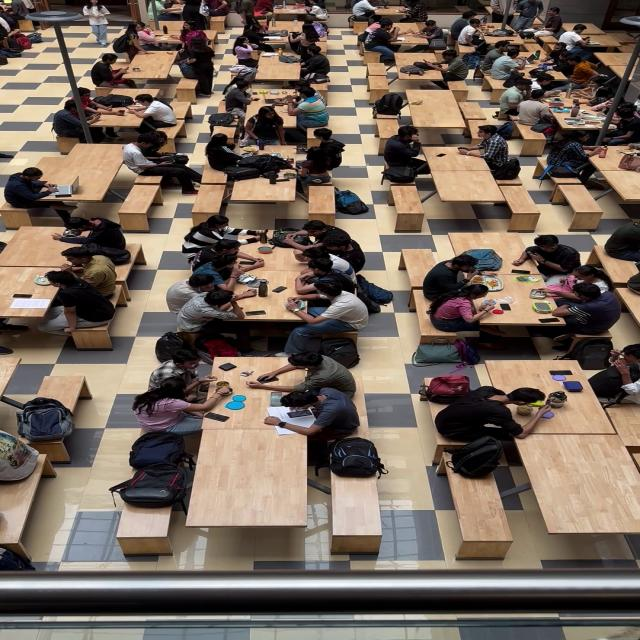Occupied: (178, 209, 392, 337), (138, 343, 380, 436), (417, 236, 613, 344), (471, 0, 640, 125), (439, 348, 640, 441), (202, 79, 340, 178), (382, 126, 550, 184), (231, 0, 337, 86), (52, 218, 123, 339), (54, 85, 185, 147), (1, 398, 88, 479), (340, 0, 452, 50), (131, 431, 190, 510), (2, 164, 86, 217), (546, 129, 640, 176), (107, 13, 217, 46), (0, 0, 47, 61), (447, 436, 517, 475), (76, 46, 140, 88), (174, 39, 225, 89), (332, 431, 384, 477), (356, 88, 428, 121), (405, 52, 462, 82)
Unoccupied: (528, 440, 640, 535), (455, 478, 509, 547), (332, 480, 381, 534), (105, 176, 169, 217), (0, 222, 46, 274), (564, 180, 606, 230), (119, 507, 177, 540), (0, 482, 26, 544), (234, 179, 298, 204), (70, 142, 120, 173), (34, 372, 90, 397), (192, 178, 234, 211), (435, 89, 468, 130), (601, 45, 640, 79), (443, 182, 506, 203), (304, 180, 338, 218), (391, 184, 427, 216), (360, 57, 394, 89), (501, 189, 534, 221), (10, 152, 65, 170), (612, 170, 640, 201)
